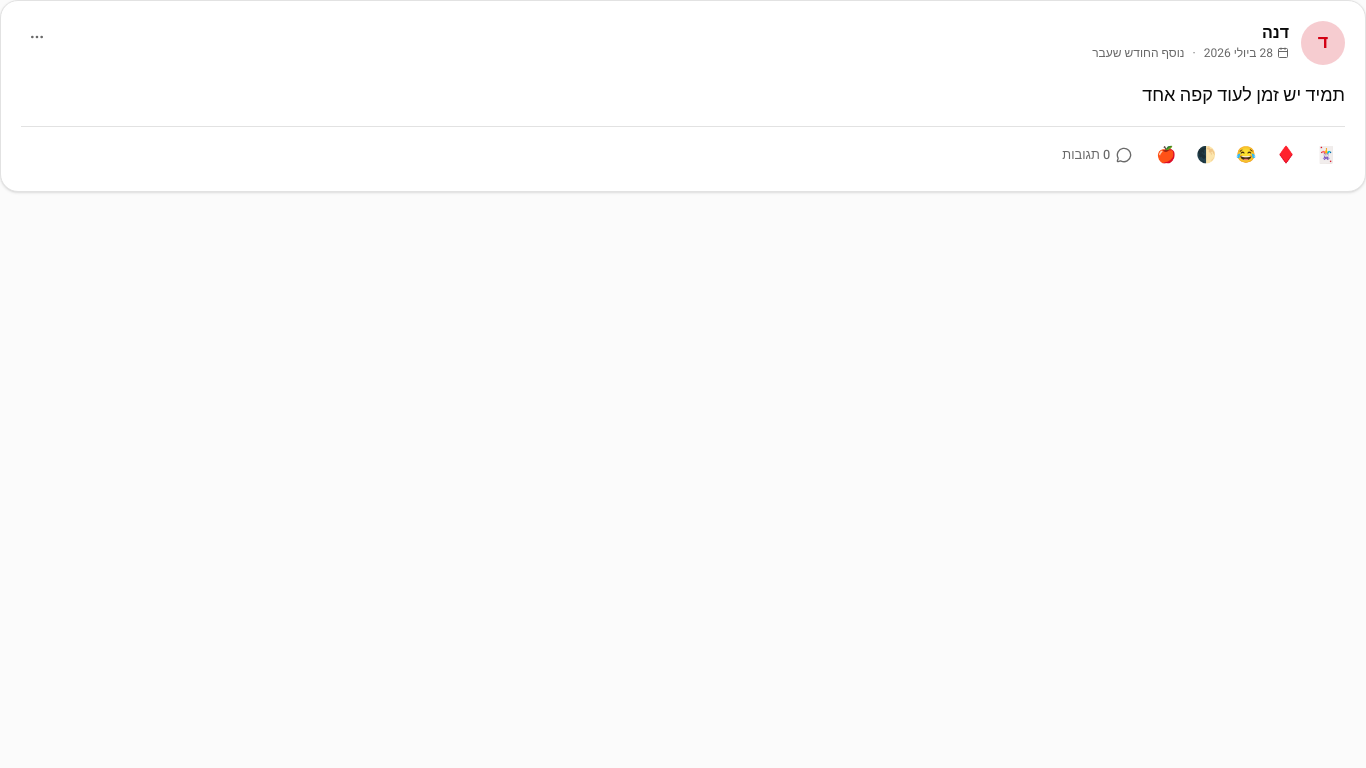
Test: QuoteCard › asks for confirmation before mailing the team
Click the button named "אפשרויות נוספות".
click(37, 37)  # box top-left (21, 21), bottom-right (53, 53)
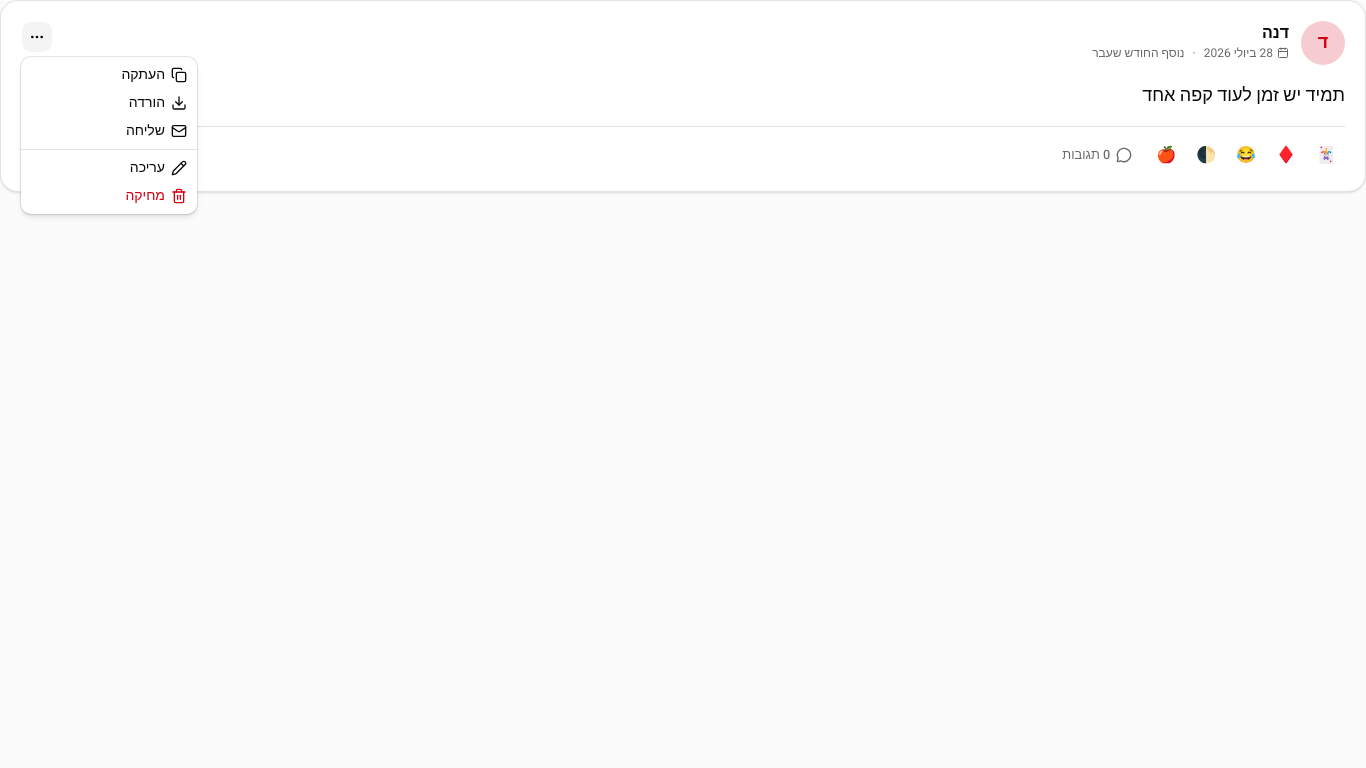
Click the menu item "שליחה".
click(156, 130)  # box top-left (126, 120), bottom-right (187, 141)
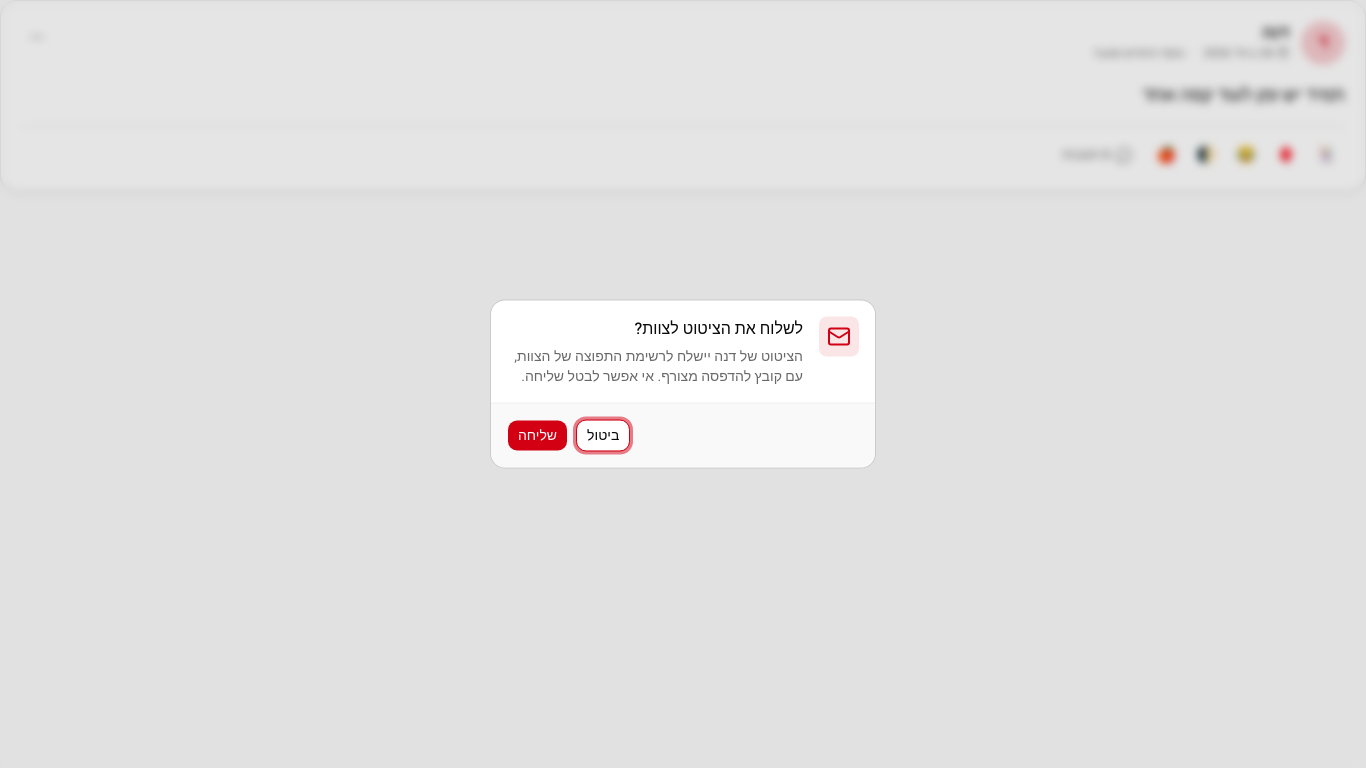
Expected: the heading "לשלוח את הציטוט לצוות?" is shown, top-left (634, 316), bottom-right (803, 340)
Expected: the text "רשימת התפוצה" is shown, top-left (514, 346), bottom-right (803, 386)
